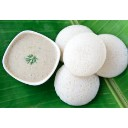idly: (55, 63, 99, 103), (65, 33, 106, 74), (98, 32, 127, 78), (57, 24, 96, 58)
